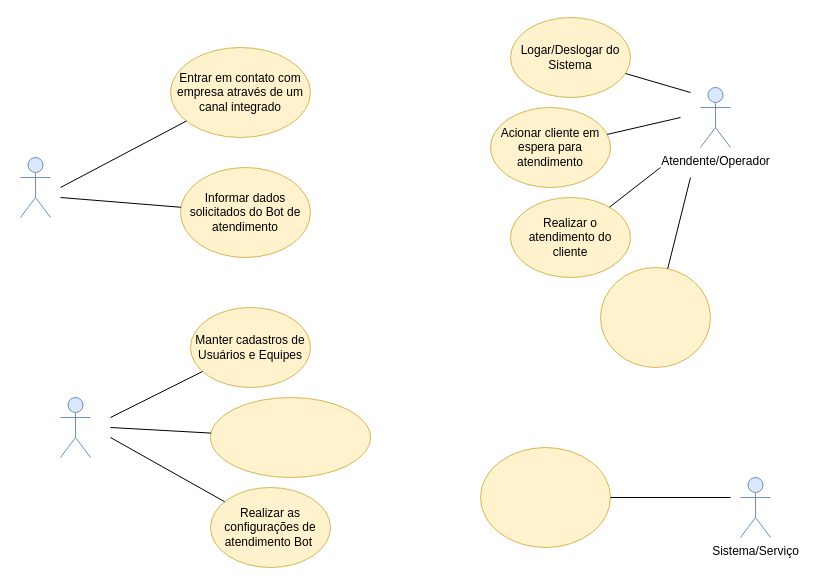
The diagram is 816 pixels wide and 585 high, and some of its shapes have lost their labels. Each missing label, with the centre of its shape:
"Admin/Gestor" belongs at pixel 75 427.
"Cliente" belongs at pixel 35 187.
"Finalizar e Classificar o atendimento realizado" belongs at pixel 655 317.
"Manter cadastro de Classificações/Tabulações" belongs at pixel 290 437.
"Realizar a comunicação / integração com gateway de chat" belongs at pixel 545 497.
